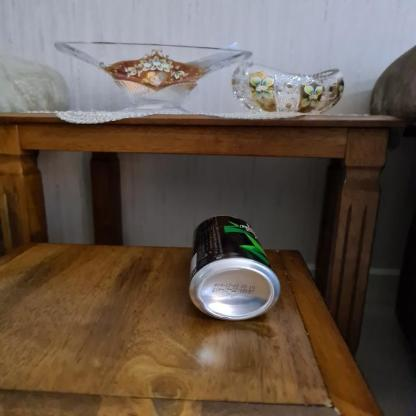Can: (190, 212, 278, 322)
